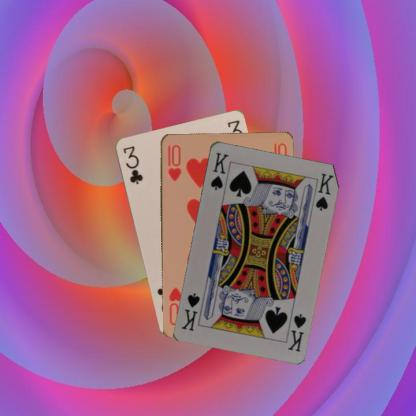10h: (165, 142, 182, 182)
3c: (120, 144, 144, 186)
Ks: (207, 149, 230, 191), (285, 311, 307, 352)
